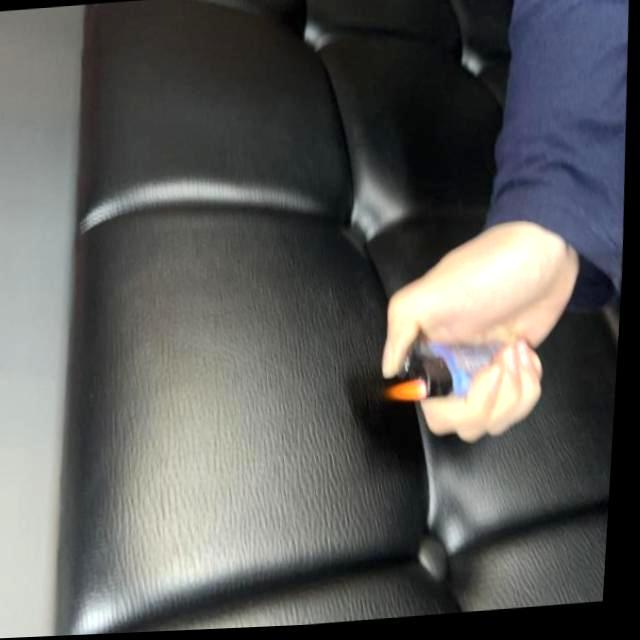fire: (385, 379, 435, 407)
